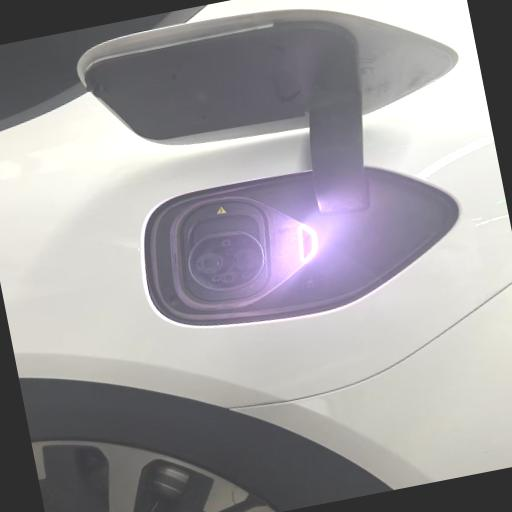DC_charging_port: (182, 224, 270, 297)
DC_hole: (194, 250, 225, 276), (232, 246, 262, 272)
PE: (222, 272, 238, 286)
